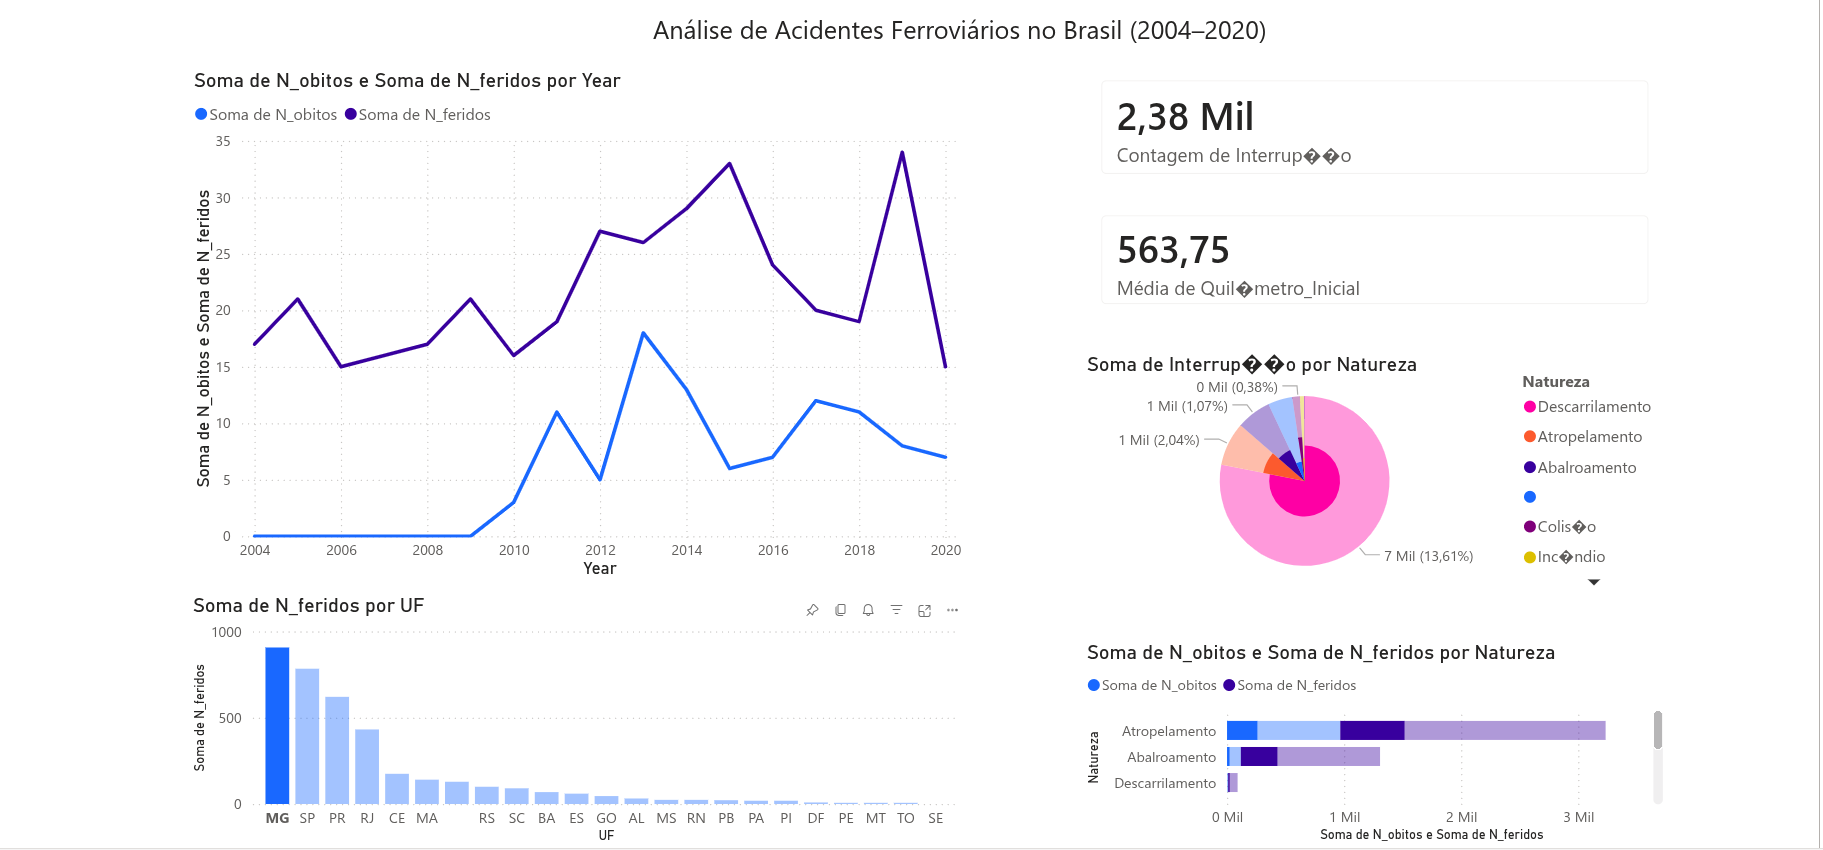

The dashboard page shown, as its layout file describes it:
{"tool":"powerbi","page":{"name":"Página 1","canvas":[1280,720],"ordinal":0},"visuals":[{"type":"lineChart","fields":{"Category":["acidentes_ferroviarios_2004-2020 2.Data_Ocorrencia.Variação.Date Hierarchy.Year","acidentes_ferroviarios_2004-2020 2.Data_Ocorrencia.Variação.Date Hierarchy.Quarter","acidentes_ferroviarios_2004-2020 2.Data_Ocorrencia.Variação.Date Hierarchy.Month","acidentes_ferroviarios_2004-2020 2.Data_Ocorrencia.Variação.Date Hierarchy.Day"],"Y":["Sum(acidentes_ferroviarios_2004-2020 2.N_obitos)","Sum(acidentes_ferroviarios_2004-2020 2.N_feridos)"]},"box":[31,25,656,473],"z":1},{"type":"cardVisual","fields":{"Data":["CountNonNull(acidentes_ferroviarios_2004-2020 2.Interrup��o)"]},"box":[784.4,24.7,495.6,121.7],"z":2},{"type":"clusteredColumnChart","fields":{"Category":["acidentes_ferroviarios_2004-2020 2.UF"],"Y":["Sum(acidentes_ferroviarios_2004-2020 2.N_feridos)"]},"box":[31.4,508.4,655.7,211.3],"z":3},{"type":"pieChart","fields":{"Category":["acidentes_ferroviarios_2004-2020 2.Natureza"],"Y":["Sum(acidentes_ferroviarios_2004-2020 2.Interrup��o)"]},"box":[784.4,185,494.6,210.7],"z":4},{"type":"cardVisual","fields":{"Data":["Avg(acidentes_ferroviarios_2004-2020 2.Quil�metro_Inicial)"]},"box":[784.4,423.4,494.6,124.6],"z":5},{"type":"barChart","fields":{"Category":["acidentes_ferroviarios_2004-2020 2.Natureza"],"Y":["Sum(acidentes_ferroviarios_2004-2020 2.N_obitos)","Sum(acidentes_ferroviarios_2004-2020 2.N_feridos)"]},"box":[784,548,495,171],"z":6}]}

Visuals, with their boxes on the page's 1280x720 design canvas (x1, y1, x2, y2). These are canvas units, not pixel positions in the 1823x850 screenshot, which may show the page scaled, cropped or inside an application window:
lineChart - acidentes_ferroviarios_2004-2020 2.Data_Ocorrencia.Variação.Date Hierarchy.Year x acidentes_ferroviarios_2004-2020 2.Data_Ocorrencia.Variação.Date Hierarchy.Quarter: rect(31, 25, 687, 498)
cardVisual - CountNonNull(acidentes_ferroviarios_2004-2020 2.Interrup��o): rect(784, 25, 1280, 146)
clusteredColumnChart - acidentes_ferroviarios_2004-2020 2.UF x Sum(acidentes_ferroviarios_2004-2020 2.N_feridos): rect(31, 508, 687, 720)
pieChart - acidentes_ferroviarios_2004-2020 2.Natureza x Sum(acidentes_ferroviarios_2004-2020 2.Interrup��o): rect(784, 185, 1279, 396)
cardVisual - Avg(acidentes_ferroviarios_2004-2020 2.Quil�metro_Inicial): rect(784, 423, 1279, 548)
barChart - acidentes_ferroviarios_2004-2020 2.Natureza x Sum(acidentes_ferroviarios_2004-2020 2.N_obitos): rect(784, 548, 1279, 719)
